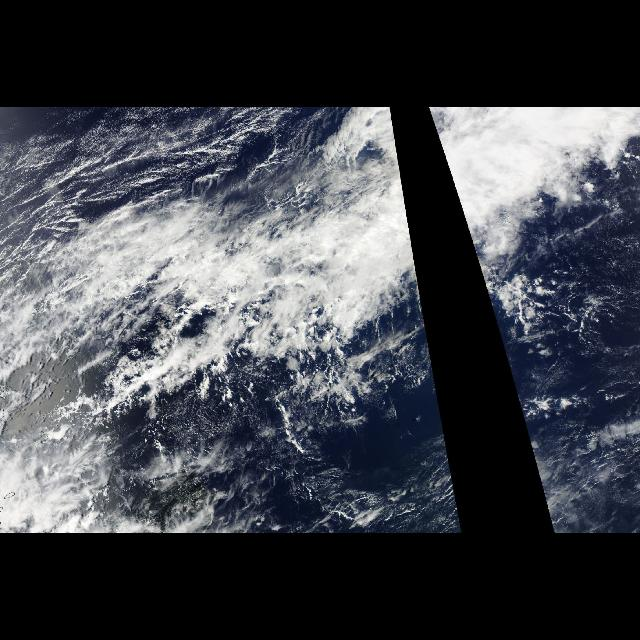Sugar: (2, 108, 330, 242)
